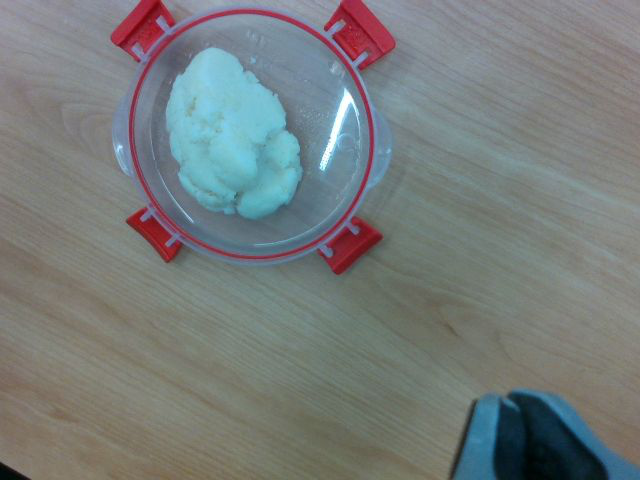mashed_potato: (164, 47, 302, 217)
